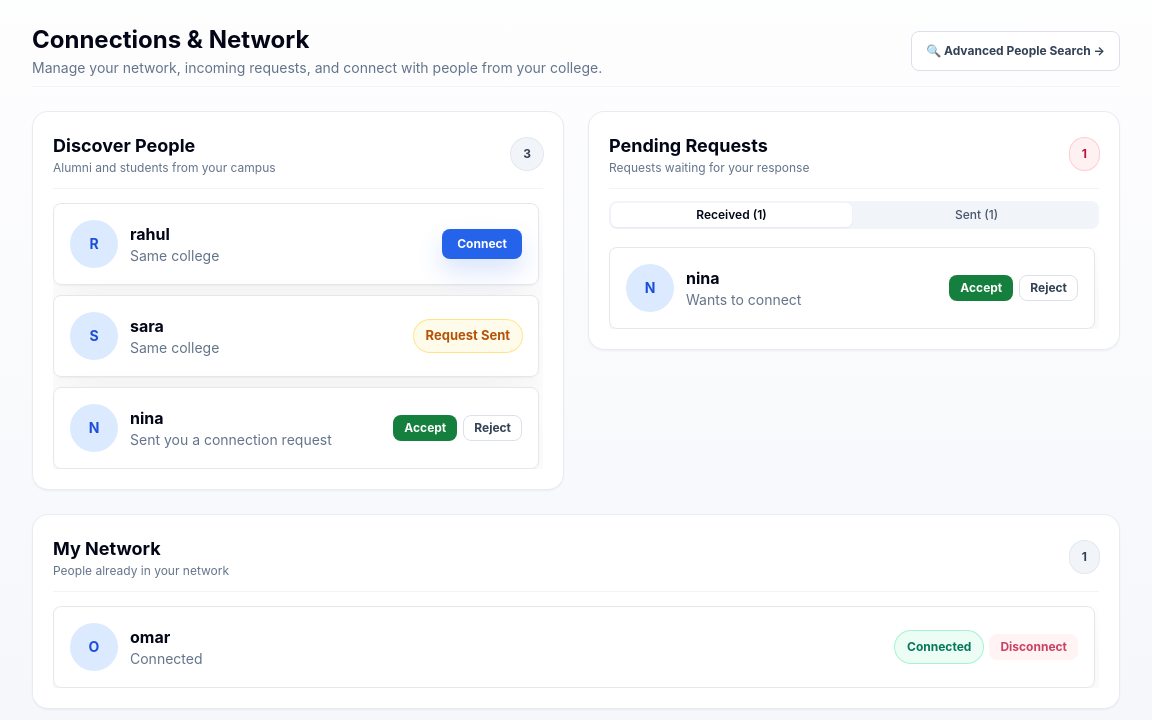
Test: send request updates discover state without full reload
Click the button "Connect": (482,244) left=442, top=229, right=522, bottom=259
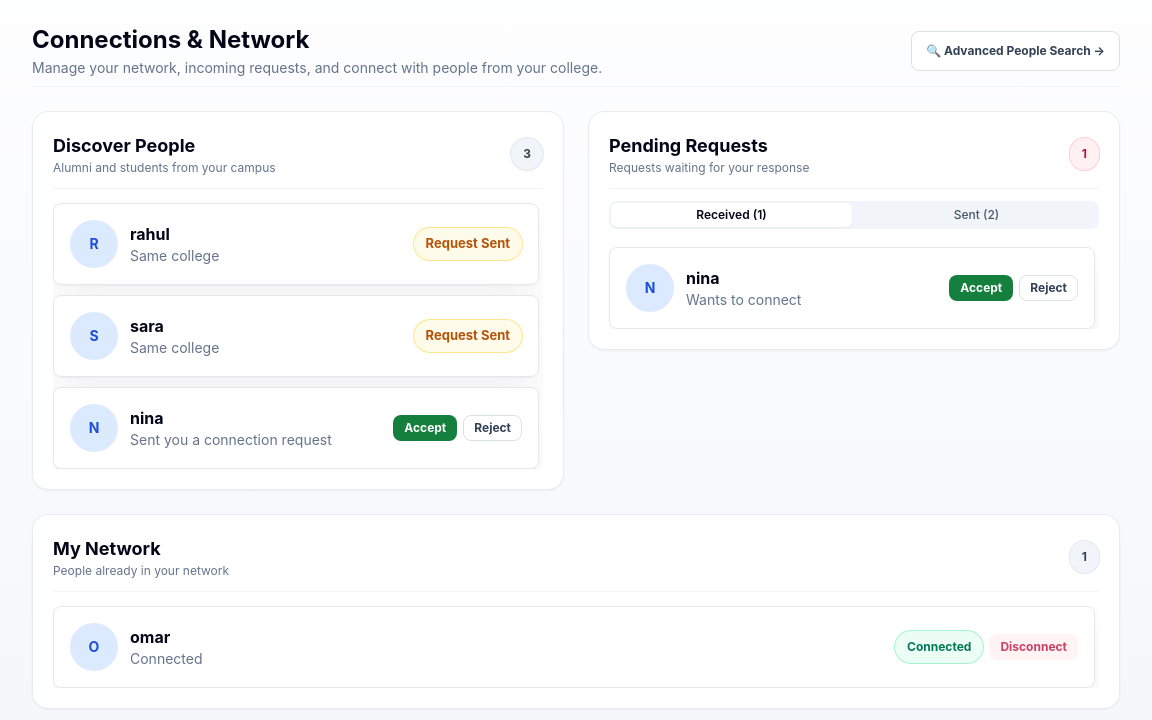
Now the text "Request Sent" is shown 2 times, box left=414, top=228, right=522, bottom=260; left=414, top=320, right=522, bottom=352
